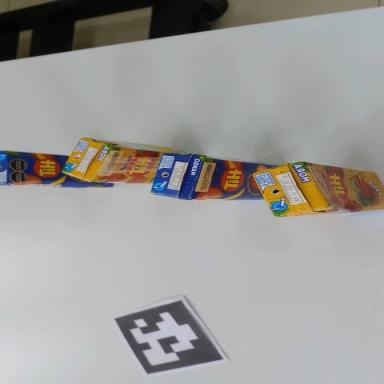HIT-MANGO: (152, 148, 275, 211), (0, 151, 114, 193)
HIT-MORA: (253, 158, 384, 217), (63, 136, 175, 190)
cara_F: (298, 162, 384, 215), (189, 157, 278, 207), (6, 152, 115, 188), (90, 145, 162, 189)
